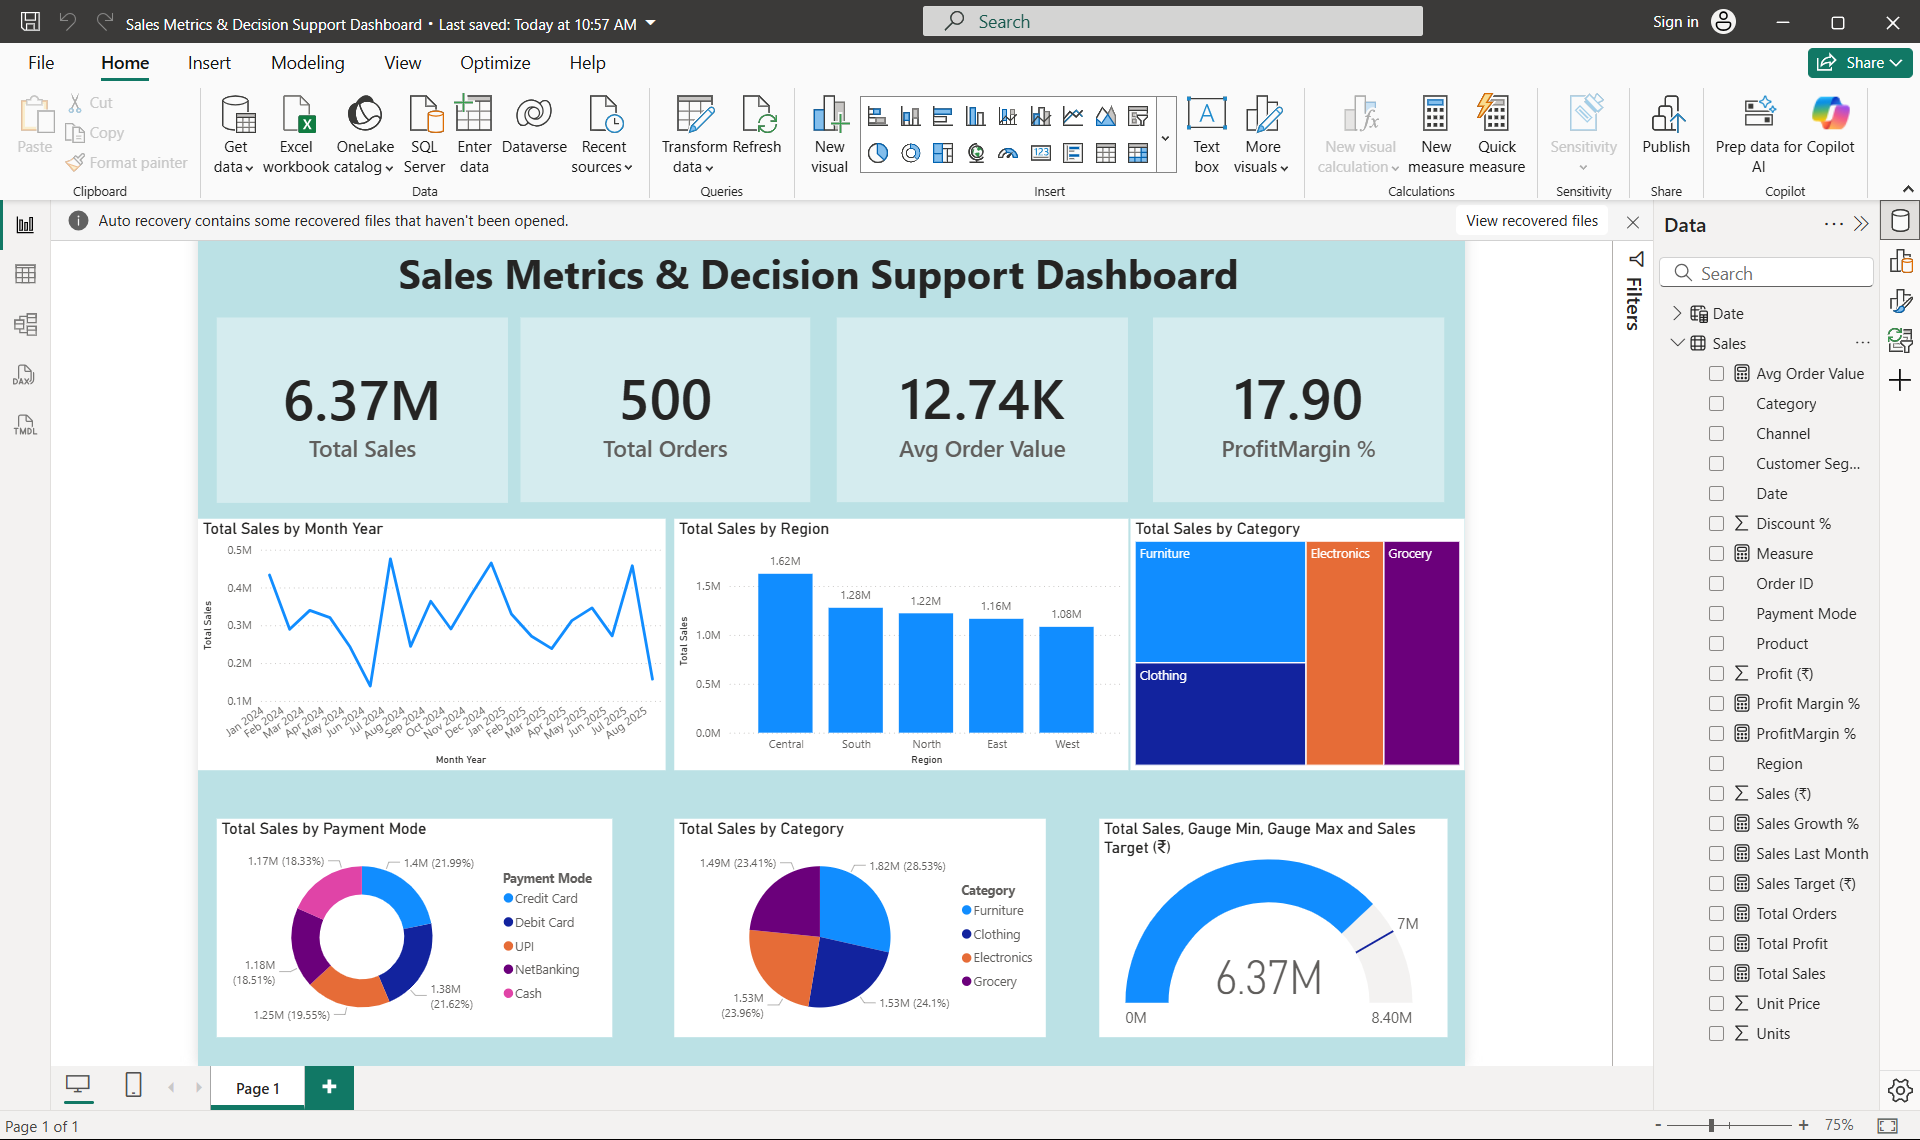

The page's visual inventory and layout, read from the dashboard file:
{"tool":"powerbi","page":{"name":"Page 1","canvas":[1351,923],"ordinal":0},"visuals":[{"type":"card","fields":{"Values":["Sales.Total Sales"]},"box":[19.8,124.9,310.6,198],"z":0},{"type":"card","fields":{"Values":["Sales.Total Orders"]},"box":[343.7,125.2,309.1,197.2],"z":1000},{"type":"card","fields":{"Values":["Sales.Avg Order Value"]},"box":[680.8,125.2,310.4,197.2],"z":2000},{"type":"card","fields":{"Values":["Sales.ProfitMargin %"]},"box":[1017.9,125.2,310.4,197.2],"z":3000},{"type":"lineChart","fields":{"Category":["Date.Month Year"],"Y":["Sales.Total Sales"]},"box":[0,340,498.2,268.2],"z":4000},{"type":"clusteredColumnChart","fields":{"Category":["Sales.Region"],"Y":["Sales.Total Sales"]},"box":[507.1,339.6,484.2,268],"z":5000},{"type":"treemap","fields":{"Group":["Sales.Category"],"Values":["Sales.Total Sales"]},"box":[994.4,339.6,356.3,268],"z":6000},{"type":"donutChart","fields":{"Category":["Sales.Payment Mode"],"Y":["Sales.Total Sales"]},"box":[19.8,659.4,421.8,233],"z":7000},{"type":"pieChart","fields":{"Category":["Sales.Category"],"Y":["Sales.Total Sales"]},"box":[507.1,659.4,395.9,233],"z":8000},{"type":"textbox","box":[85.3,44,1152.4,67.9],"z":9000},{"type":"gauge","fields":{"Y":["Sales.Total Sales"],"MinValue":["Date.Gauge Min"],"MaxValue":["Date.Gauge Max"],"TargetValue":["Sales.Sales Target (₹)"]},"box":[960.9,659.4,371.6,233],"z":10000}]}

Visuals, with their boxes on the page's 1351x923 design canvas (x1, y1, x2, y2). These are canvas units, not pixel positions in the 1920x1140 screenshot, which may show the page scaled, cropped or inside an application window:
card - Sales.Total Sales: bbox=(20, 125, 330, 323)
card - Sales.Total Orders: bbox=(344, 125, 653, 322)
card - Sales.Avg Order Value: bbox=(681, 125, 991, 322)
card - Sales.ProfitMargin %: bbox=(1018, 125, 1328, 322)
lineChart - Date.Month Year x Sales.Total Sales: bbox=(0, 340, 498, 608)
clusteredColumnChart - Sales.Region x Sales.Total Sales: bbox=(507, 340, 991, 608)
treemap - Sales.Category x Sales.Total Sales: bbox=(994, 340, 1351, 608)
donutChart - Sales.Payment Mode x Sales.Total Sales: bbox=(20, 659, 442, 892)
pieChart - Sales.Category x Sales.Total Sales: bbox=(507, 659, 903, 892)
textbox: bbox=(85, 44, 1238, 112)
gauge - Sales.Total Sales x Date.Gauge Min: bbox=(961, 659, 1332, 892)
